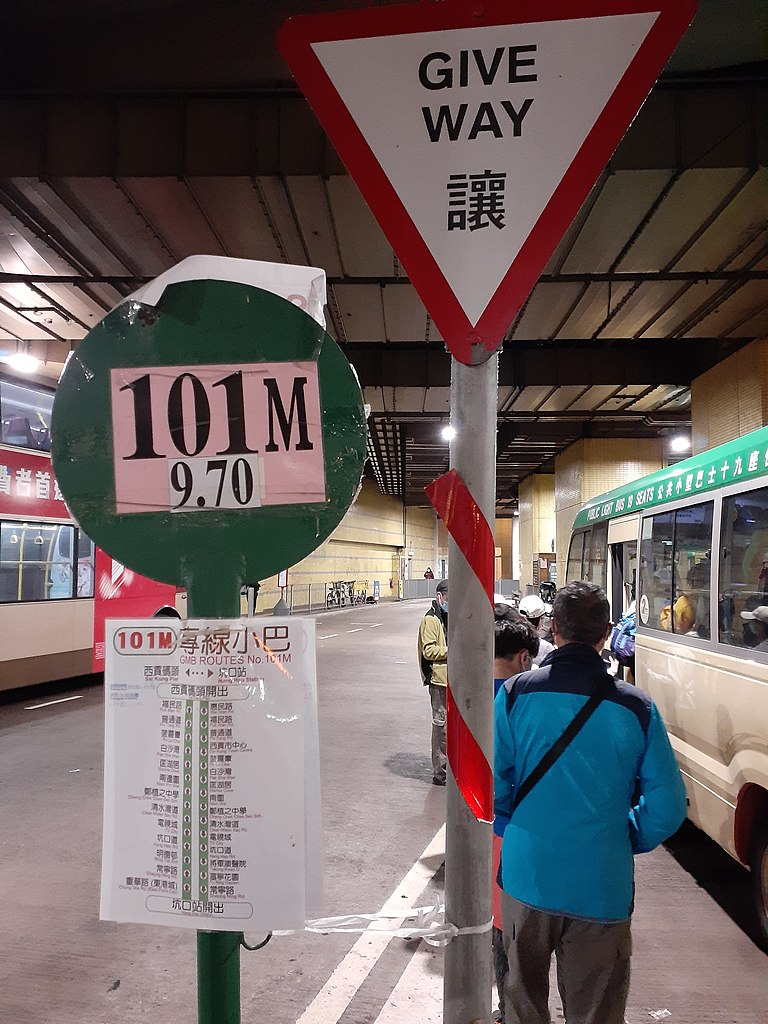Give Way: (274, 0, 694, 368)
